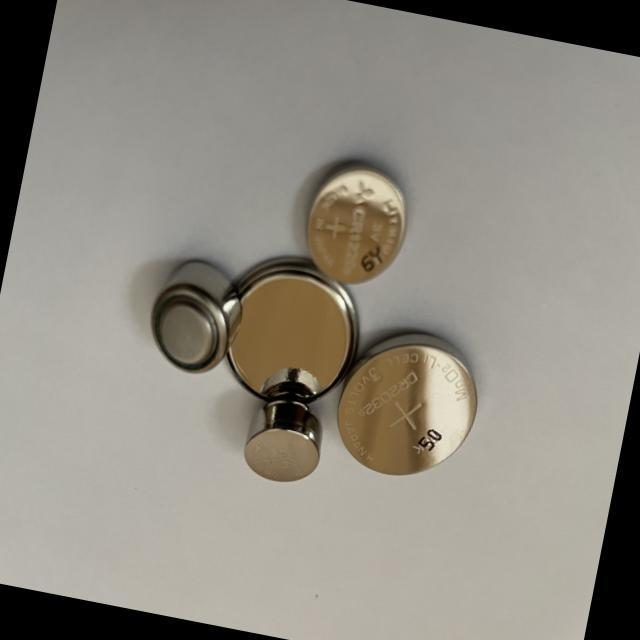COIN: (322, 318, 488, 490), (214, 244, 374, 414), (291, 154, 418, 296), (136, 250, 252, 382), (236, 391, 330, 488)
